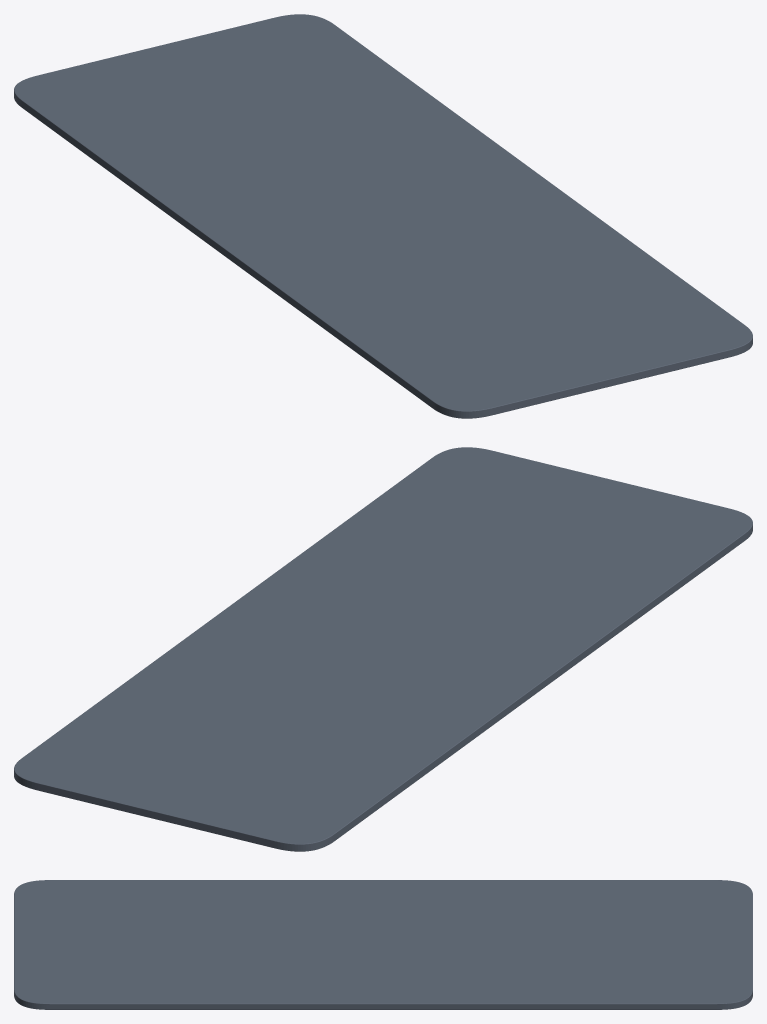
Rendered from rect-plate-proxy-v2-95x240x2-powder-coat.glb.
The picture shows the model from 3 angles, top to bottom: view 1: azimuth 30°, elevation 25°; view 2: azimuth 150°, elevation 25°; view 3: azimuth 270°, elevation 25°; orthographic projection. The views are drawn at different scales.
Parts seen in each view (by area): view 1: flat_item_body; view 2: flat_item_body; view 3: flat_item_body.
Part boxes in pixels (box(x1,y1,x2,y2)): flat_item_body: box(14, 14, 752, 418); flat_item_body: box(14, 447, 752, 851); flat_item_body: box(14, 880, 752, 1009).
Bounding box in the file's own units: 95.36 × 2.24 × 240.
